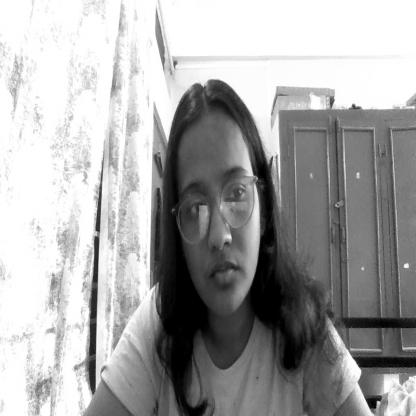Normal: (158, 77, 273, 321)
